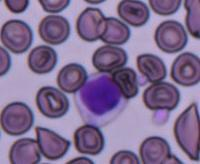L: (74, 71, 128, 126)
